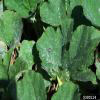Squash Powdery mildew leaf: (66, 24, 99, 80), (35, 24, 69, 77), (3, 8, 24, 47), (41, 0, 68, 28), (19, 38, 38, 69)
